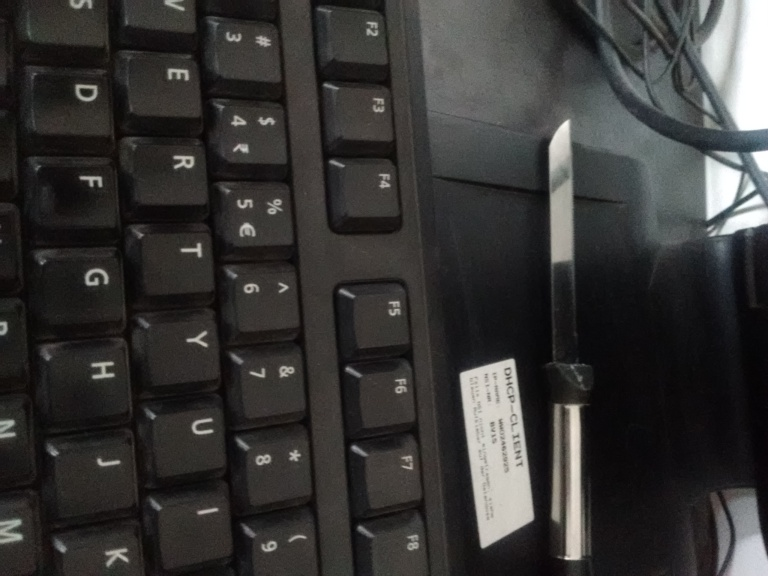knife: (539, 121, 606, 575)
